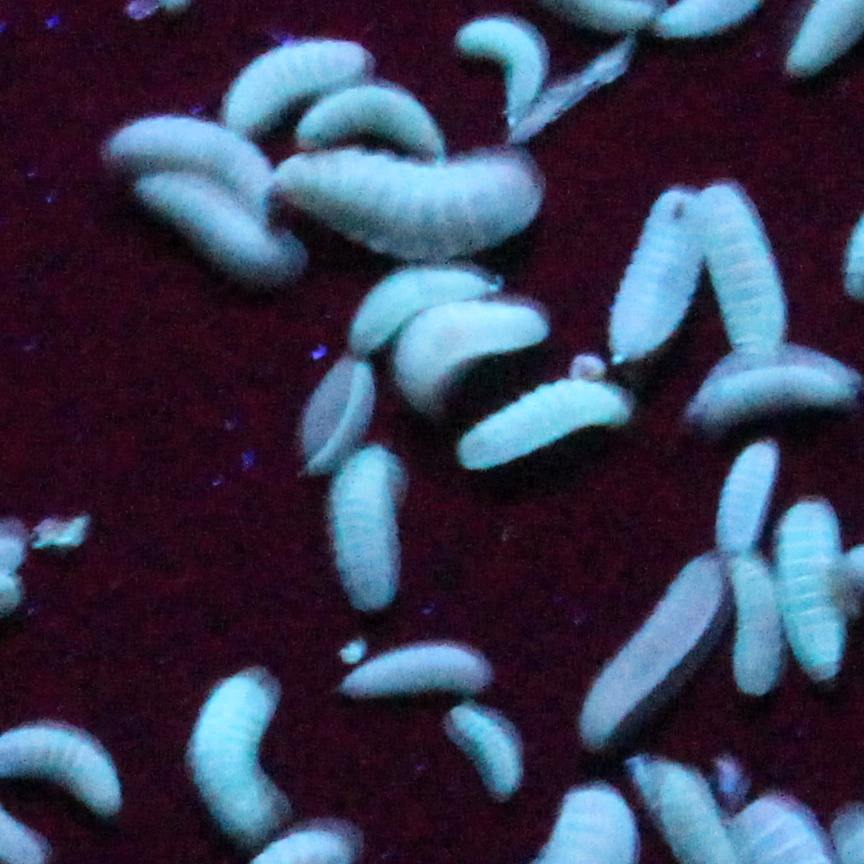larve: (570, 561, 720, 741), (279, 162, 540, 257), (184, 665, 301, 839), (603, 189, 704, 361), (136, 180, 289, 282), (410, 309, 541, 412), (465, 387, 618, 470), (708, 182, 782, 349), (694, 355, 855, 431), (782, 499, 845, 680), (332, 452, 401, 612), (351, 266, 485, 346), (444, 701, 530, 803), (218, 38, 365, 97), (288, 361, 371, 462), (333, 646, 494, 698), (713, 441, 780, 561), (112, 121, 267, 171), (463, 18, 544, 113), (312, 94, 431, 147), (732, 557, 776, 692)
